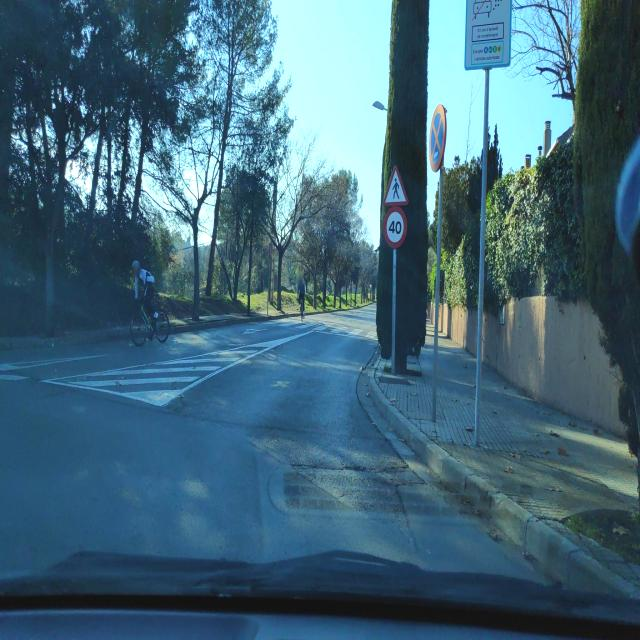bike: (128, 294, 170, 346)
